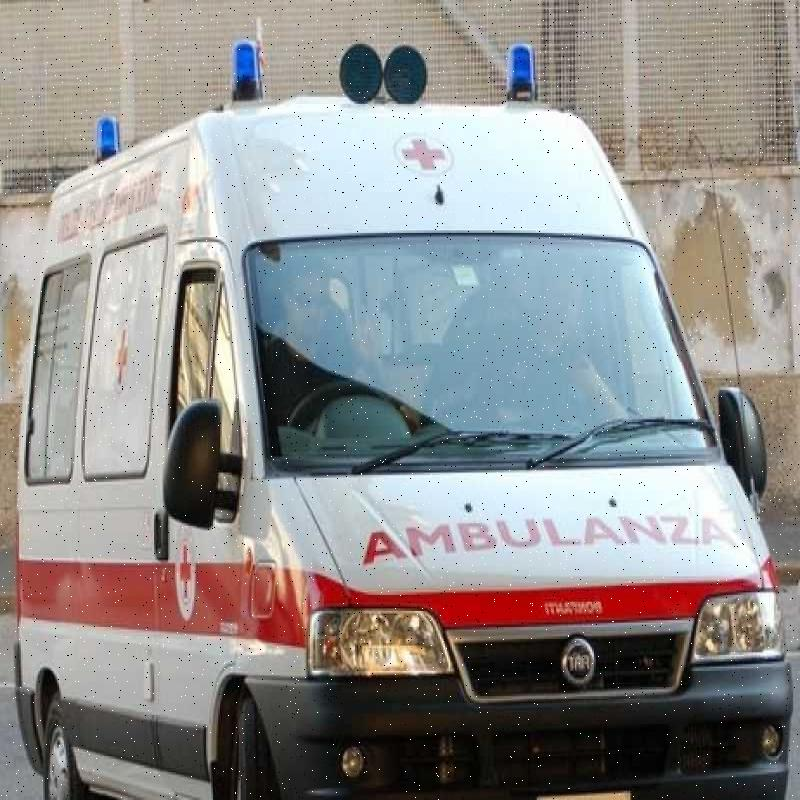AmbulanceSiren: (485, 32, 555, 118), (213, 29, 282, 112), (82, 90, 134, 173)
